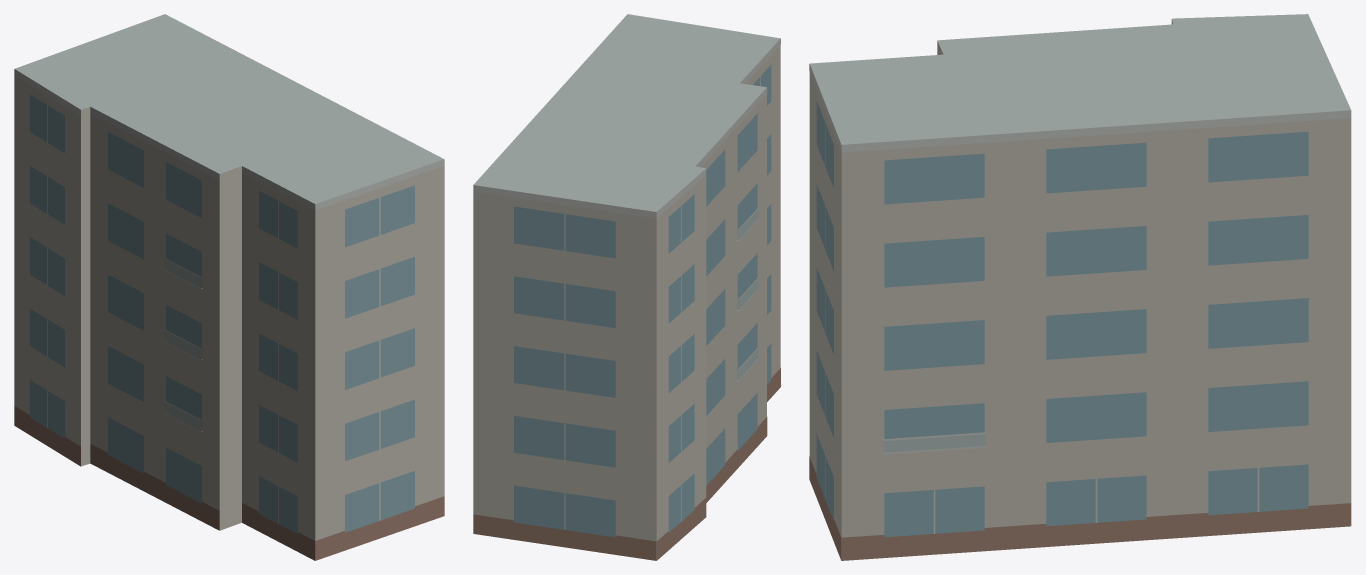
Rendered from survey-upis-32899041.glb.
3 renders of one model, left to right at view 1: azimuth 30°, elevation 25°; view 2: azimuth 150°, elevation 25°; view 3: azimuth 270°, elevation 25°, orthographic. The views are drawn at different scales.
Parts seen in each view (by area): view 1: survey-upis-32899041.tmp; view 2: survey-upis-32899041.tmp; view 3: survey-upis-32899041.tmp.
Boxes of the visible parts, x1,y1,x2,y2 form: survey-upis-32899041.tmp: (14,14,444,560); survey-upis-32899041.tmp: (473,14,780,560); survey-upis-32899041.tmp: (809,14,1351,560).
Size of the model in its own units: 8.91 by 13.2 by 15.59.
